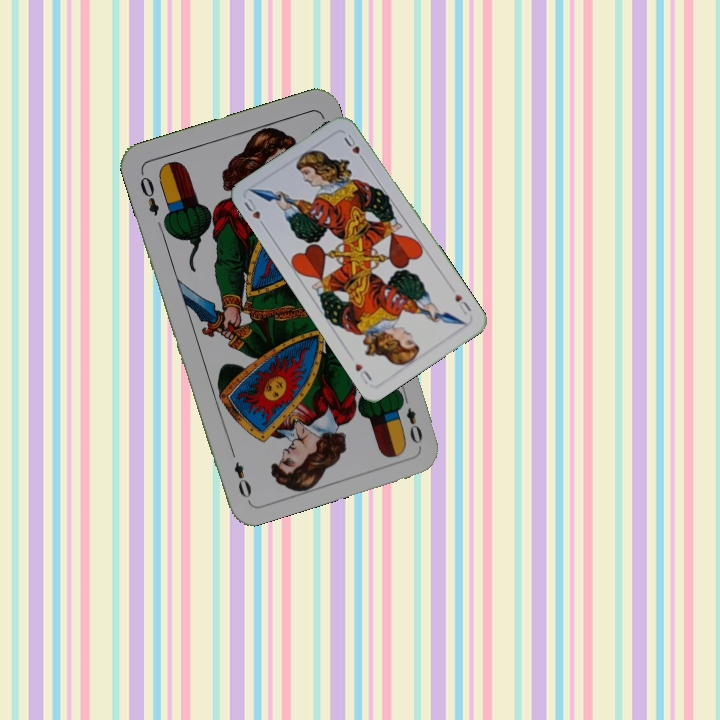EO: (396, 390, 425, 446), (135, 168, 162, 218)
HU: (239, 194, 268, 231), (450, 290, 474, 317)
